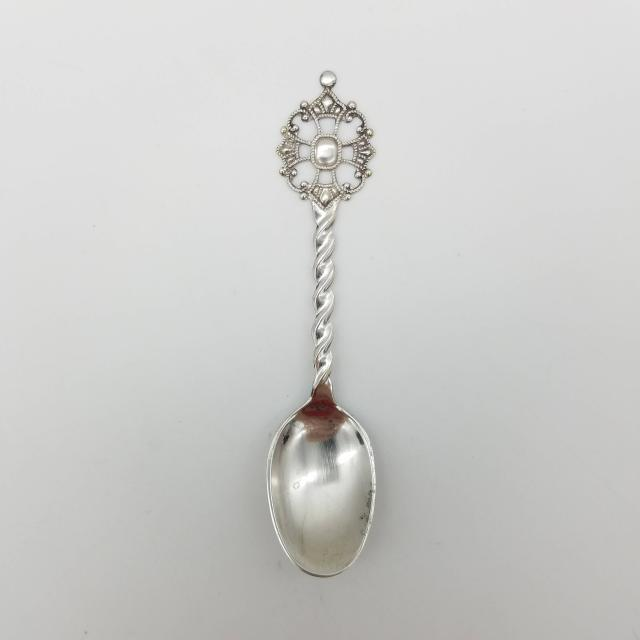spoon: (229, 47, 402, 587)
